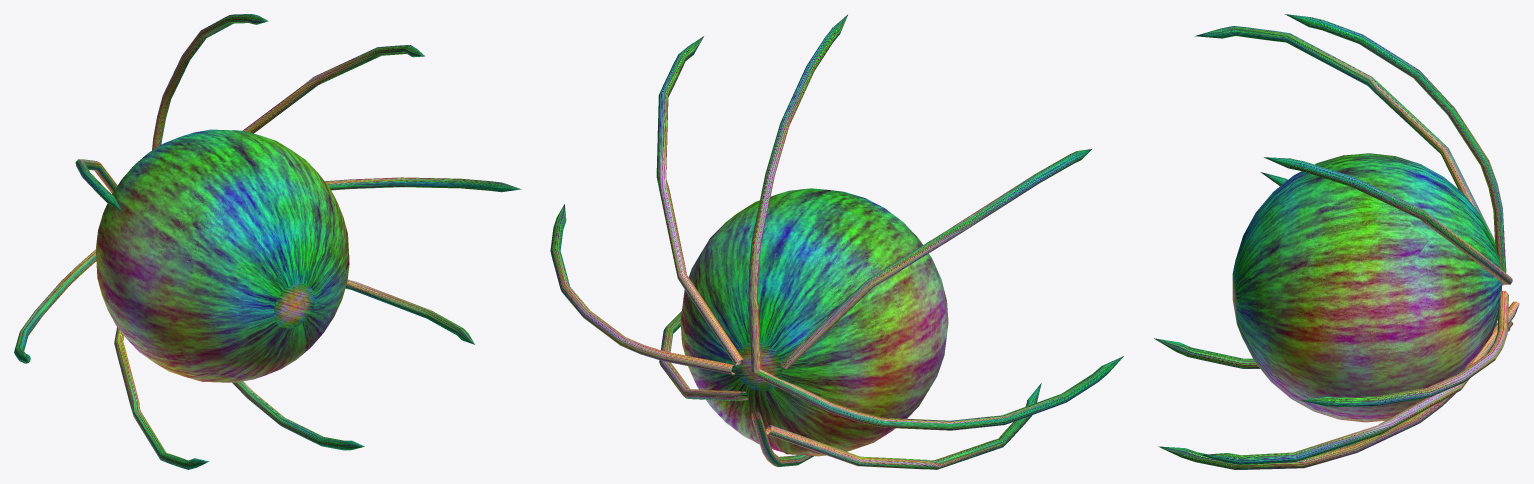
File: monster.glb
3 views of the same model, side by side, from view 1: azimuth 30°, elevation 25°; view 2: azimuth 150°, elevation 25°; view 3: azimuth 270°, elevation 25° (orthographic). The views are drawn at different scales.
Parts seen in each view (by area): view 1: Sphere; view 2: Sphere; view 3: Sphere.
Boxes of the visible parts, left/top/right/bottom form: Sphere: left=14, top=14, right=521, bottom=469; Sphere: left=550, top=14, right=1123, bottom=469; Sphere: left=1154, top=14, right=1519, bottom=469.
Bounding box in the file's own units: 6.53 × 5.09 × 3.83.
1 material, 1 textured.
